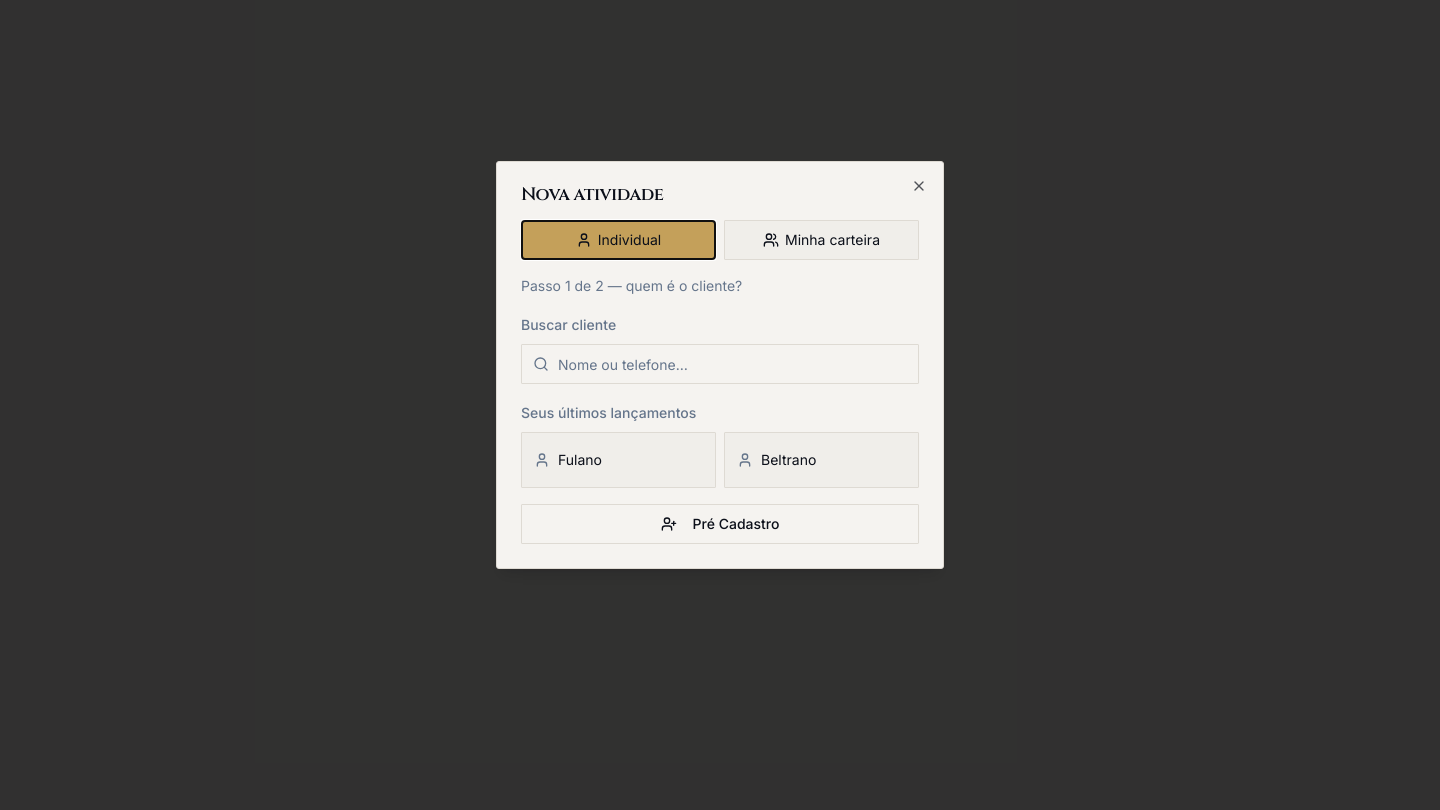
Test: NovaAtividadeDialog — passo 2 (pré cadastro) › Pré Cadastro mostra campos de nome e telefone e todos os tipos
Click the button "Pré Cadastro" at (720,524), box top-left (521, 504), bottom-right (919, 544)
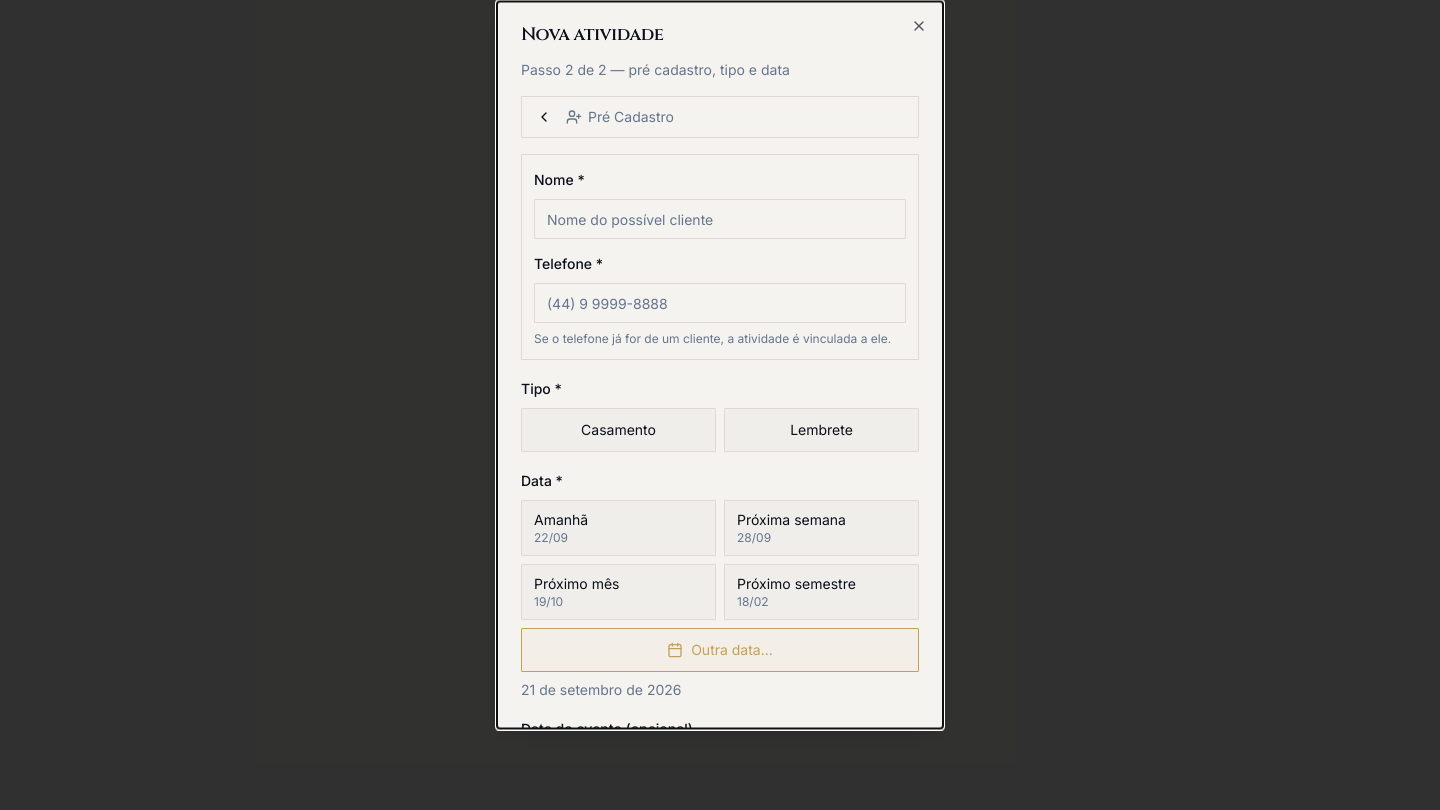
Check: the field labelled "Nome *" is shown, box top-left (534, 198), bottom-right (906, 238)
Check: the field labelled "Telefone *" is shown, box top-left (534, 282), bottom-right (906, 322)
Check: the button "Casamento" is shown, box top-left (521, 408), bottom-right (716, 452)
